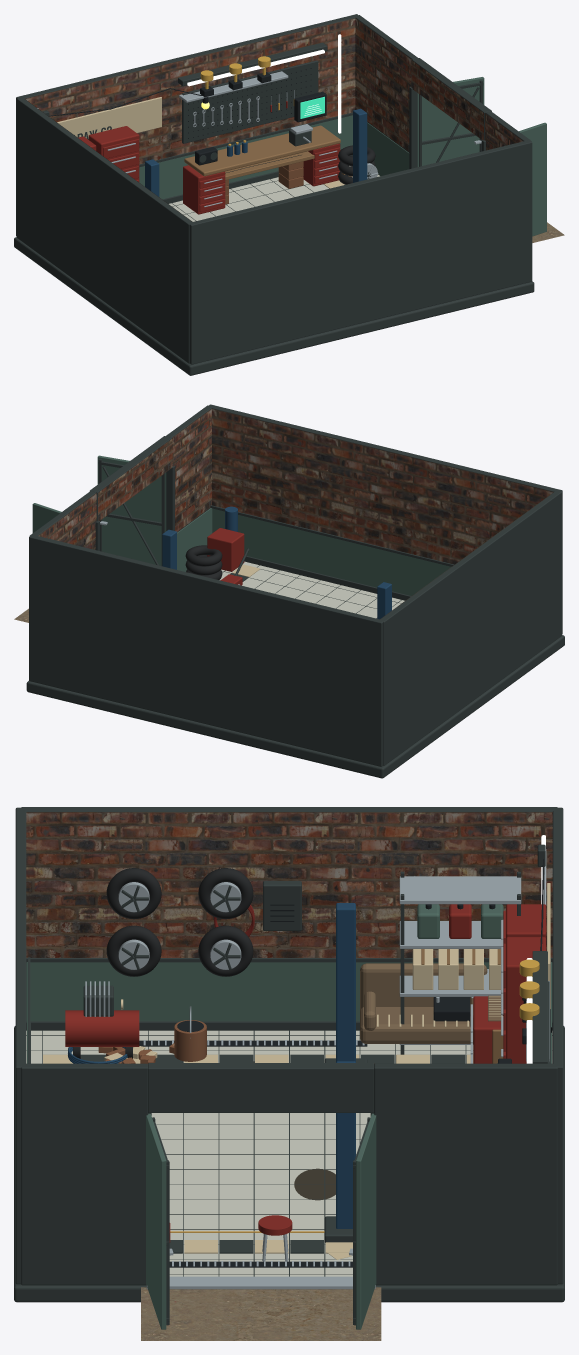
The model's file is garage-stages.glb.
3 views of the same model, one above another, from view 1: azimuth 30°, elevation 25°; view 2: azimuth 150°, elevation 25°; view 3: azimuth 270°, elevation 25° (orthographic). The views are drawn at different scales.
Visible parts, largest first — view 1: Wall_South__Powdercoat charcoal, Wall_West__Powdercoat charcoal, Wall_North__Old brick, Wall_East__Old brick, Stage_3_5.001__Powdercoat charcoal, Floor__Powdercoat charcoal, Stage_3_5.001__Oxblood tool cabinet, Gate_leaf.001__Old green enamel, Stage_3_5.001__Oiled plywood, Stage_3_5.001__Aged paper, Stage_5_5__Fresh workshop cream, Wall_East__Powdercoat charcoal (+18 smaller); view 2: Wall_North__Powdercoat charcoal, Wall_South__Old brick, Wall_West__Powdercoat charcoal, Stage_2_5.002__Old green enamel, Wall_East__Old brick, Floor__Powdercoat charcoal, Gate_leaf__Old green enamel, Stage_5_5__Fresh workshop cream, Wall_East__Powdercoat charcoal, Stage_2_5.002__Powdercoat charcoal, Wall_South__Powdercoat charcoal, Stage_2_5.004__Old green enamel (+6 smaller); view 3: Wall_East__Powdercoat charcoal, Wall_West__Old brick, Stage_5_5__Fresh workshop cream, Stage_2_5__Old green enamel, Open_gates__Workshop concrete, Floor__Powdercoat charcoal, Stage_5_5__Powdercoat charcoal, Stage_2_5__Steel, Stage_2_5__Powdercoat charcoal, Stage_5_5.002__Rubber, Stage_1_1__Old upholstery, Stage_4_5.001__Oil can blue (+25 smaller).
Part boxes in pixels (x1,y1,x2,y2): Wall_South__Powdercoat charcoal: [189, 140, 532, 364]; Wall_West__Powdercoat charcoal: [17, 98, 192, 363]; Wall_North__Old brick: [24, 18, 355, 164]; Wall_East__Old brick: [355, 18, 523, 151]; Stage_3_5.001__Powdercoat charcoal: [42, 42, 327, 162]; Floor__Powdercoat charcoal: [14, 237, 534, 375]; Stage_3_5.001__Oxblood tool cabinet: [183, 101, 340, 214]; Gate_leaf.001__Old green enamel: [417, 77, 484, 166]; Stage_3_5.001__Oiled plywood: [184, 125, 340, 176]; Stage_3_5.001__Aged paper: [57, 97, 161, 138]; Stage_5_5__Fresh workshop cream: [169, 166, 379, 221]; Wall_East__Powdercoat charcoal: [355, 15, 531, 168]; Wall_North__Powdercoat charcoal: [29, 535, 383, 766]; Wall_South__Old brick: [212, 408, 553, 564]; Wall_West__Powdercoat charcoal: [380, 491, 561, 765]; Stage_2_5.002__Old green enamel: [212, 508, 451, 595]; Wall_East__Old brick: [38, 408, 211, 549]; Floor__Powdercoat charcoal: [26, 635, 564, 778]; Gate_leaf__Old green enamel: [97, 455, 166, 565]; Stage_5_5__Fresh workshop cream: [219, 561, 404, 618]; Wall_East__Powdercoat charcoal: [29, 405, 211, 550]; Stage_2_5.002__Powdercoat charcoal: [210, 505, 454, 600]; Wall_South__Powdercoat charcoal: [208, 404, 562, 634]; Stage_2_5.004__Old green enamel: [177, 508, 212, 571]; Wall_East__Powdercoat charcoal: [21, 1063, 557, 1285]; Wall_West__Old brick: [26, 812, 552, 957]; Stage_5_5__Fresh workshop cream: [26, 1030, 552, 1276]; Stage_2_5__Old green enamel: [26, 904, 552, 1021]; Open_gates__Workshop concrete: [141, 1287, 381, 1340]; Floor__Powdercoat charcoal: [14, 1026, 564, 1302]; Stage_5_5__Powdercoat charcoal: [26, 1030, 552, 1276]; Stage_2_5__Steel: [399, 876, 521, 1044]; Stage_2_5__Powdercoat charcoal: [26, 871, 552, 1054]; Stage_5_5.002__Rubber: [106, 868, 253, 976]; Stage_1_1__Old upholstery: [360, 963, 487, 1043]; Stage_4_5.001__Oil can blue: [336, 903, 355, 1228].
Size of the model in its own units: 10.6 by 3.67 by 7.8.
20 materials, 2 textured.
